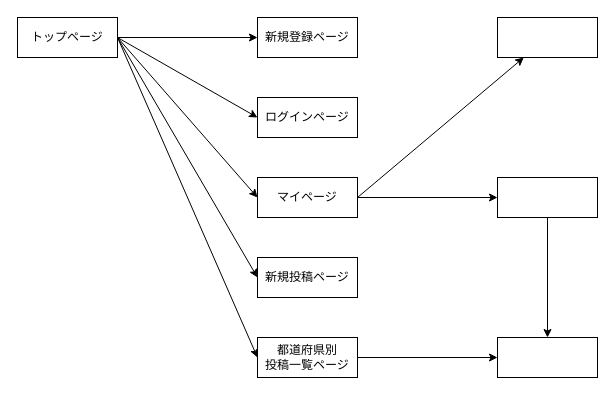
Image size: 615x395. Some labels were removed from this diagram. Each missing label, with the centre of its shape:
ユーザー情報 編集ページ: the point at 547,37
投稿一覧: the point at 547,197
投稿詳細: the point at 547,357
